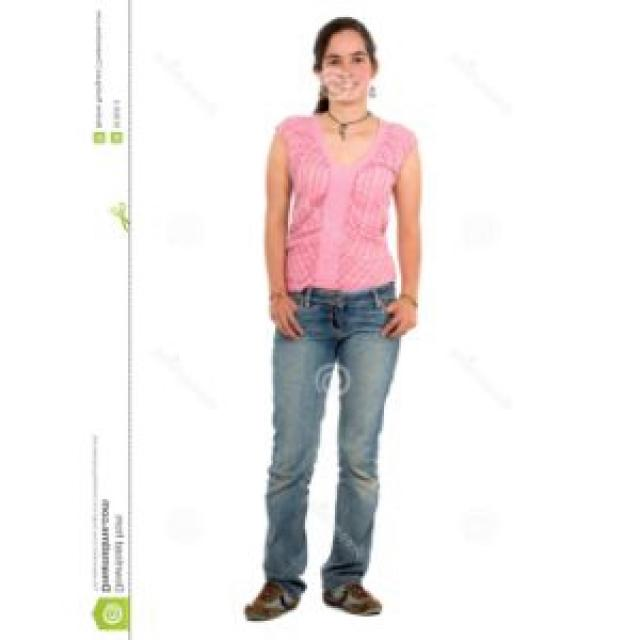adult: (228, 8, 446, 623)
